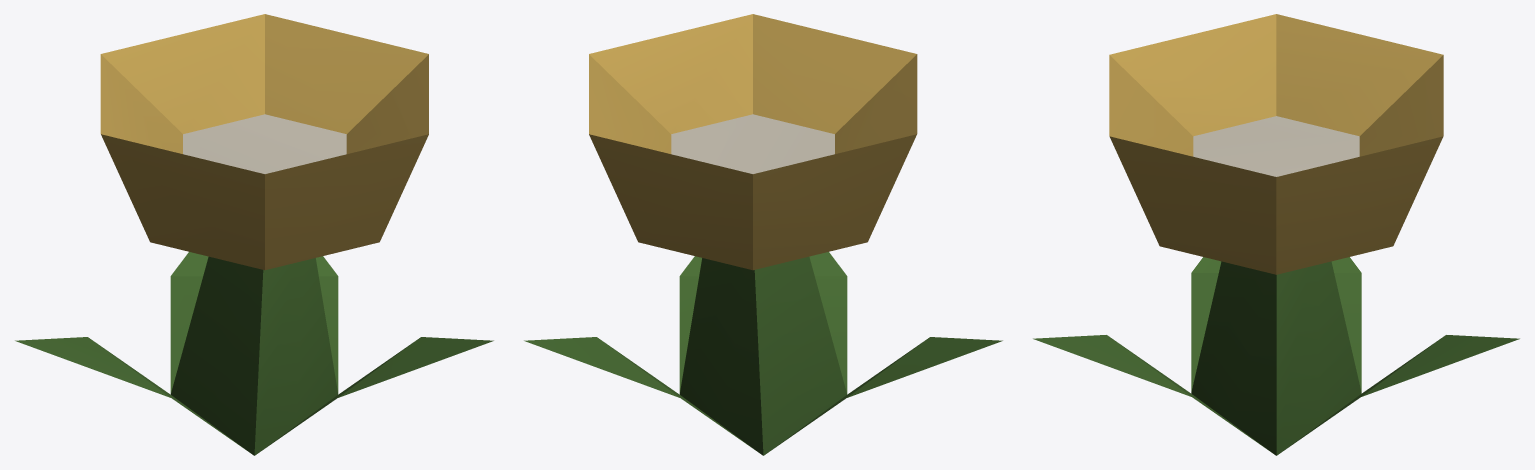
Rendered from flower_yellow_c.glb.
3 views of the same model, side by side, from view 1: azimuth 30°, elevation 25°; view 2: azimuth 150°, elevation 25°; view 3: azimuth 270°, elevation 25° (orthographic).
Visible parts, largest first — view 1: flower_yellow_c; view 2: flower_yellow_c; view 3: flower_yellow_c.
Part boxes in pixels (x1,y1,x2,y2): flower_yellow_c: [15, 14, 493, 455]; flower_yellow_c: [524, 14, 1002, 455]; flower_yellow_c: [1033, 14, 1519, 455].
Size of the model in its own units: 0.4907 by 0.36 by 0.4919.
